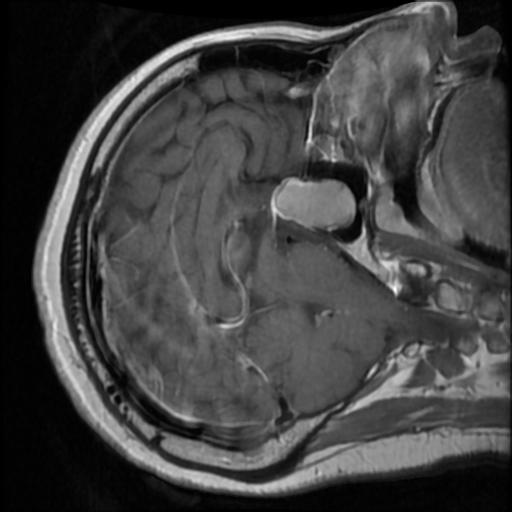pituitary tumour: (271, 178, 356, 227)
